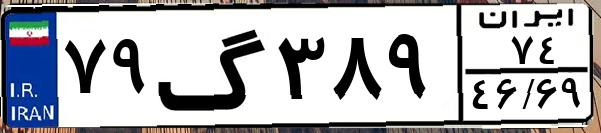3: (270, 28, 330, 110)
4: (537, 27, 568, 80), (470, 70, 495, 125)
6: (495, 70, 520, 125), (535, 70, 560, 125)
7: (57, 26, 110, 100), (508, 27, 537, 80)
8: (330, 28, 385, 110)
9: (385, 28, 445, 110), (110, 28, 156, 98), (560, 70, 590, 125)
گ: (156, 12, 270, 120)
